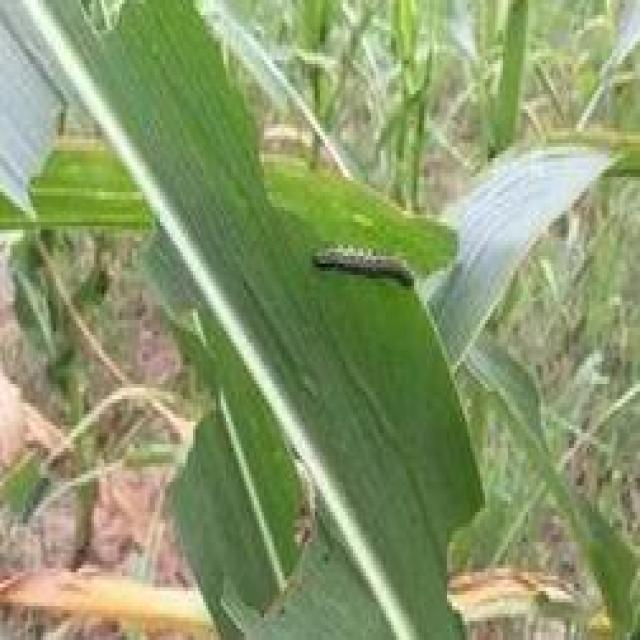pest: (314, 243, 422, 290)
